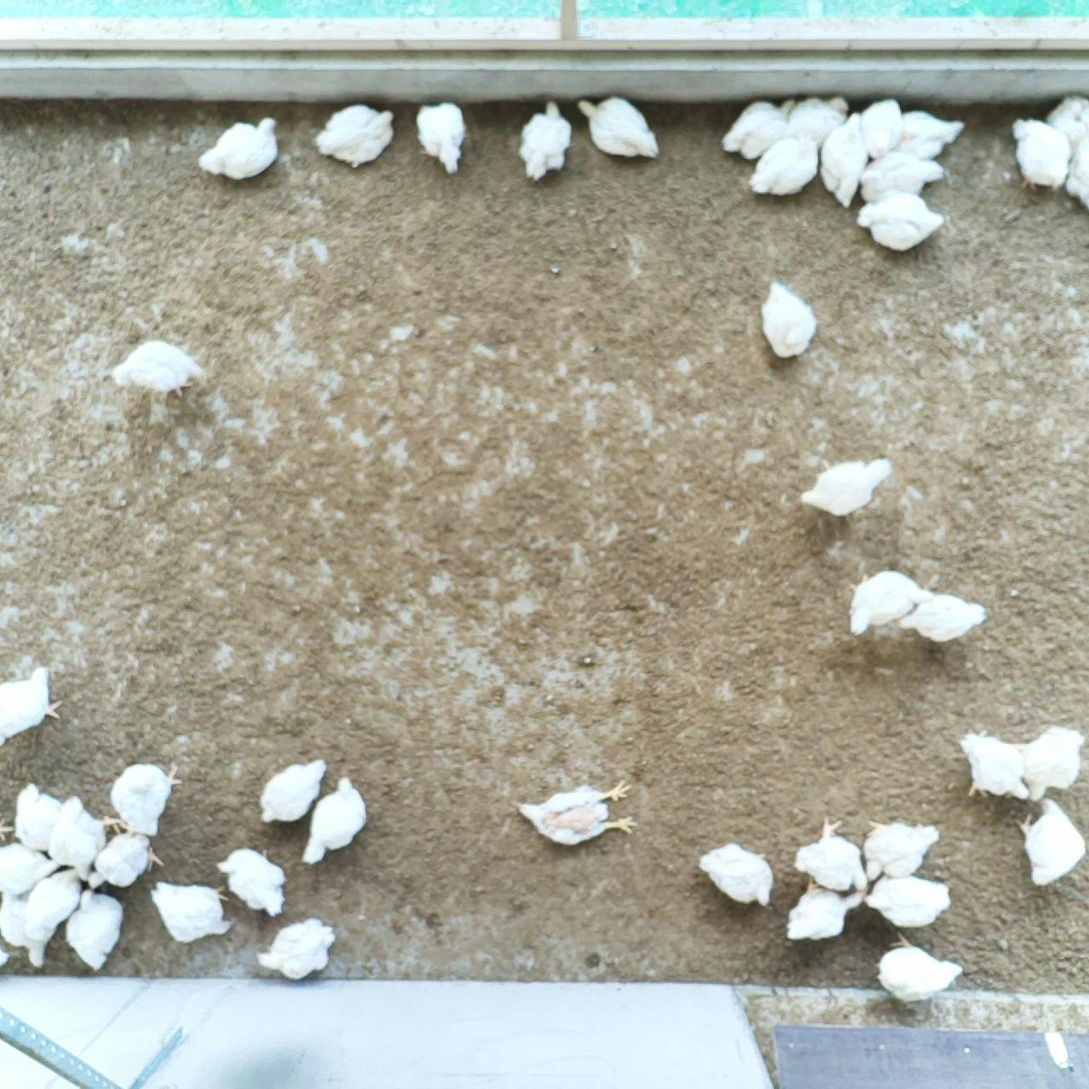chicken: (514, 777, 639, 850), (874, 931, 964, 1004), (109, 338, 211, 402), (848, 566, 936, 640), (1015, 797, 1089, 885), (302, 777, 370, 870), (854, 188, 944, 258), (951, 727, 1031, 804), (793, 814, 869, 895), (780, 876, 867, 945), (198, 110, 281, 182), (252, 913, 338, 982), (108, 759, 180, 841), (856, 816, 941, 885), (577, 96, 661, 165), (0, 663, 66, 750), (796, 454, 891, 514), (63, 883, 127, 972), (43, 792, 110, 877), (860, 871, 951, 933), (697, 838, 774, 910), (314, 101, 396, 168), (217, 842, 286, 921), (152, 878, 237, 942), (853, 150, 944, 209), (84, 824, 164, 890), (516, 95, 574, 182), (259, 758, 331, 828), (892, 590, 987, 643), (1019, 727, 1085, 803), (720, 97, 799, 160), (821, 111, 872, 208), (0, 886, 58, 969), (747, 134, 822, 198), (759, 279, 819, 359), (1007, 114, 1070, 189), (20, 867, 87, 932), (888, 107, 965, 163), (411, 97, 469, 171), (10, 781, 68, 855), (793, 91, 850, 151), (0, 838, 55, 895), (856, 94, 902, 159), (1058, 132, 1089, 214), (1048, 94, 1089, 153)
